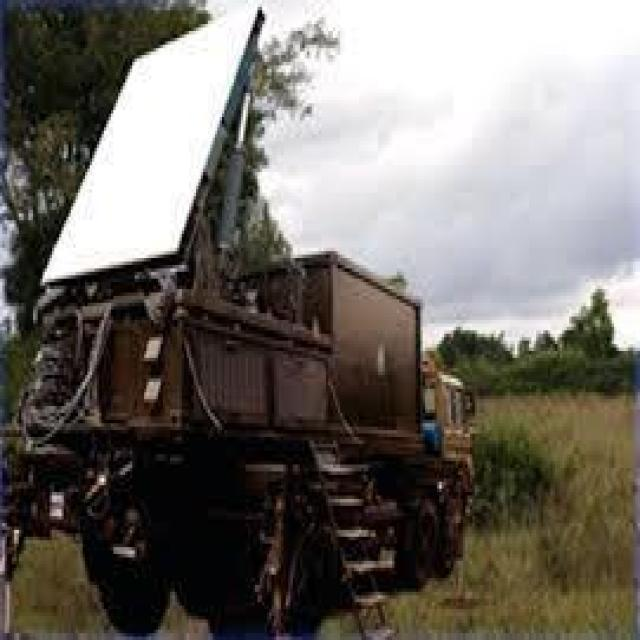MIL_MBT: (41, 162, 469, 609)
